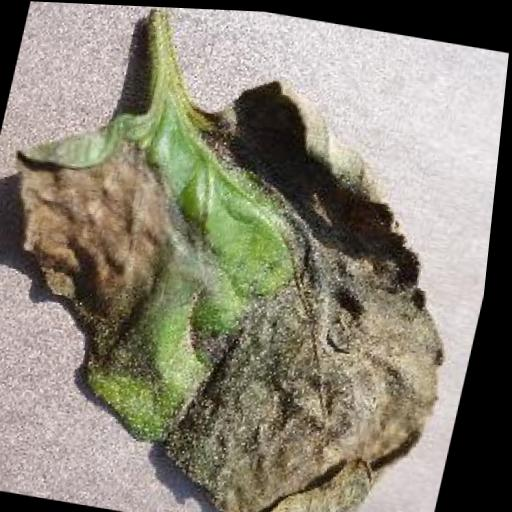Late Blight: (0, 31, 508, 512)
